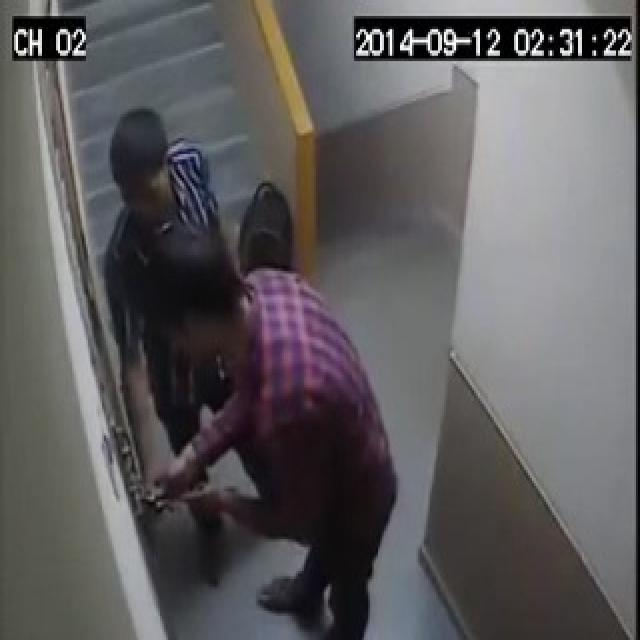thief: (94, 100, 399, 638)
